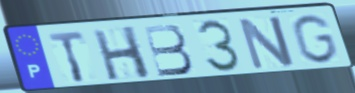3: (194, 18, 243, 74)
B: (140, 22, 196, 78)
G: (289, 13, 341, 65)
H: (90, 24, 154, 82)
N: (236, 14, 298, 72)
T: (46, 30, 88, 84)
